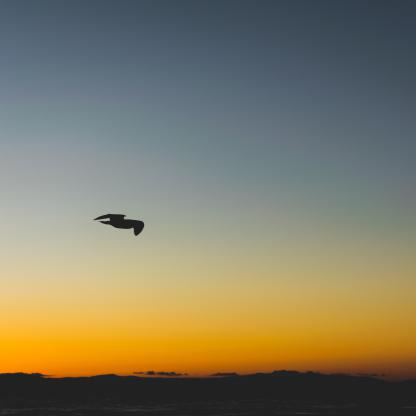bird: (93, 214, 144, 236)
